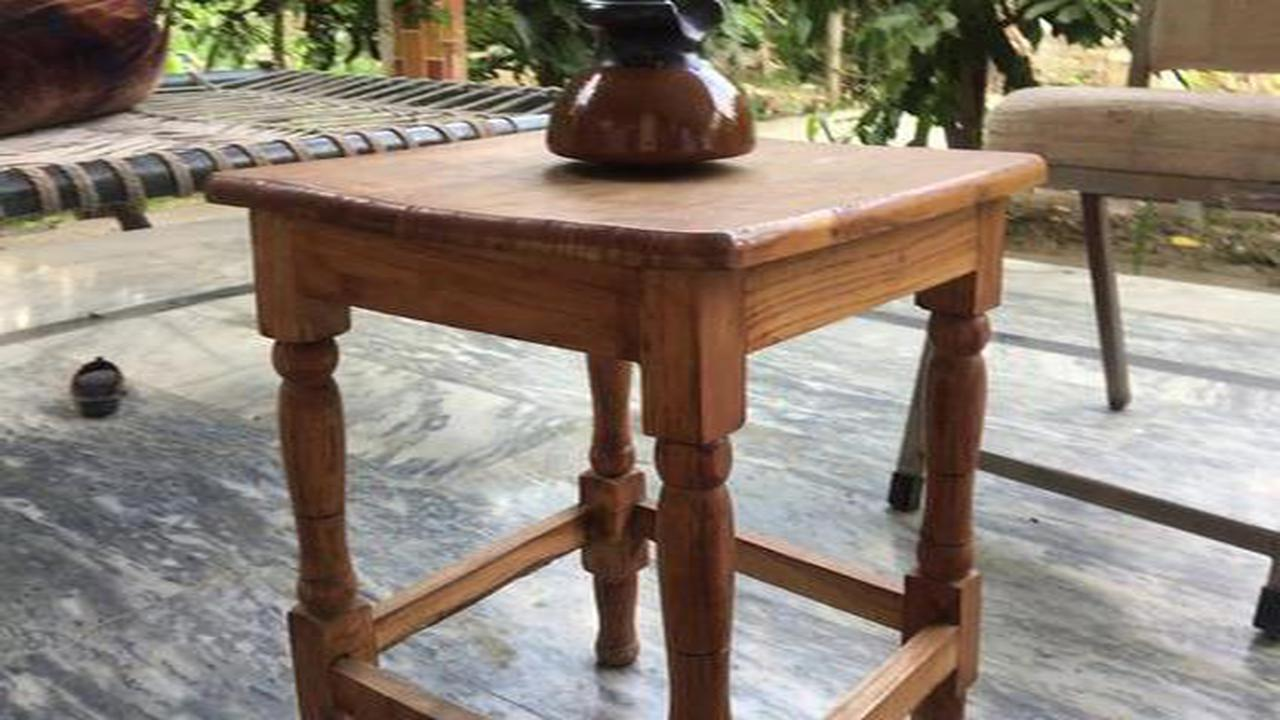insulator_pin: (542, 4, 767, 187)
